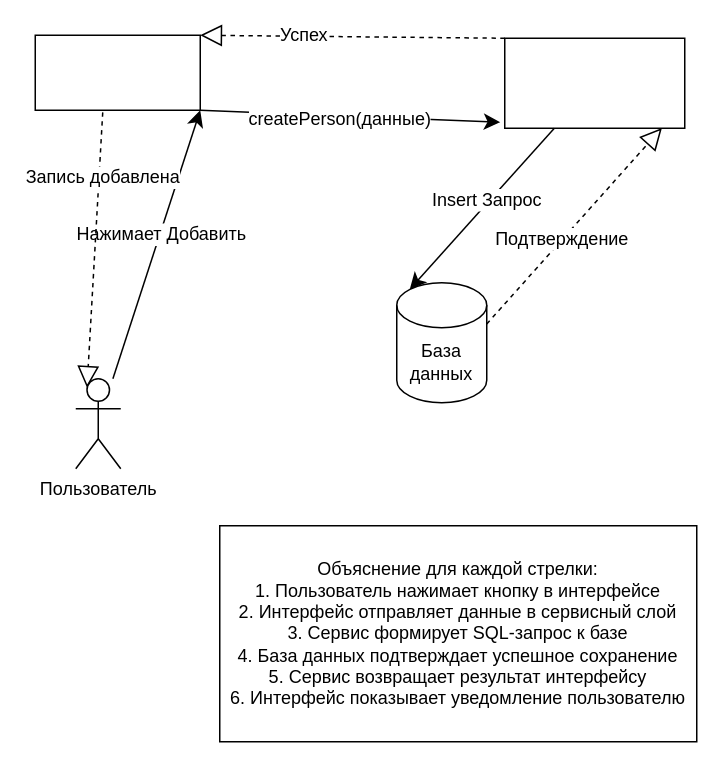
Image size: 723x770. Some labels were removed from this diagram. The shapes that lost their labels are listed below. From the top down, each one's box as (x1, y1, x2, y2) in pixels, then its label:
(34, 34, 200, 110): Интерфейс
(503, 37, 685, 128): PersonService
